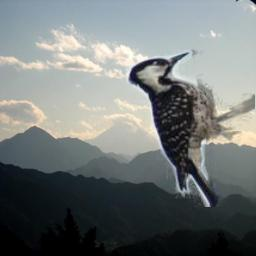Woodpecker: (125, 49, 255, 207)
